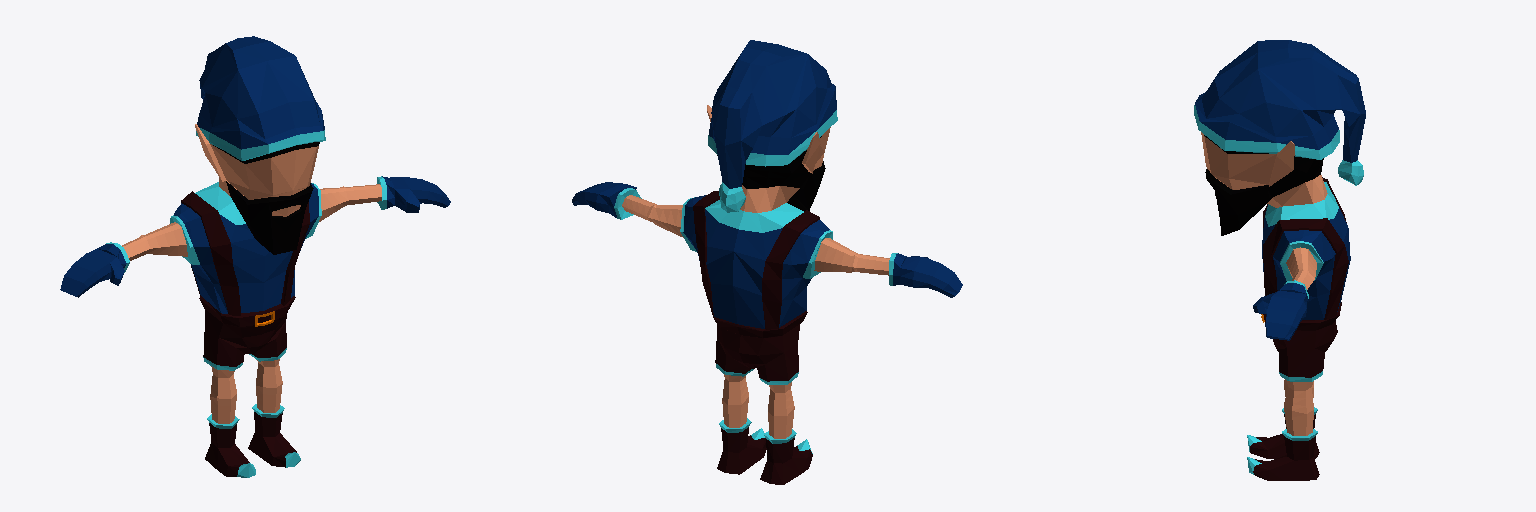
File: char_ELF_7.obj
The picture shows the model from 3 angles: view 1: azimuth 30°, elevation 25°; view 2: azimuth 150°, elevation 25°; view 3: azimuth 270°, elevation 25°; orthographic projection.
Parts seen in each view (by area): view 1: Cube; view 2: Cube; view 3: Cube.
Part boxes in pixels (x1,y1,x2,y2): Cube: (60, 36, 450, 477); Cube: (572, 40, 962, 484); Cube: (1194, 40, 1365, 480).
Size of the model in its own units: 2.88 by 2.96 by 1.11.